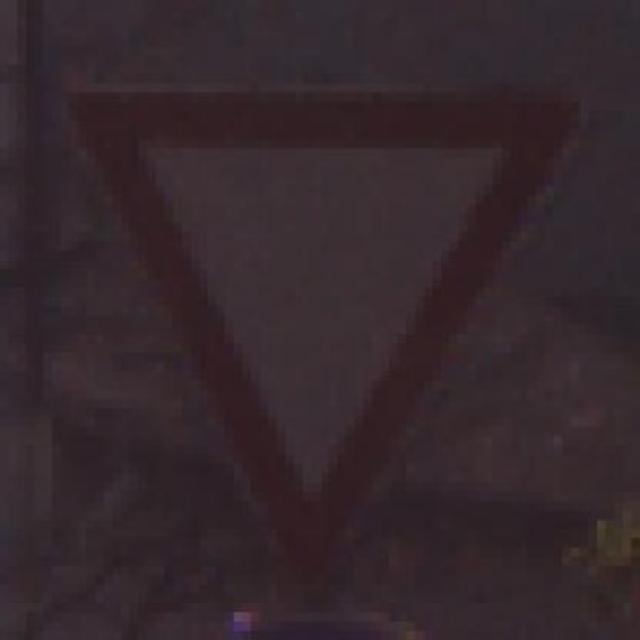Give Way: (60, 65, 597, 612)
